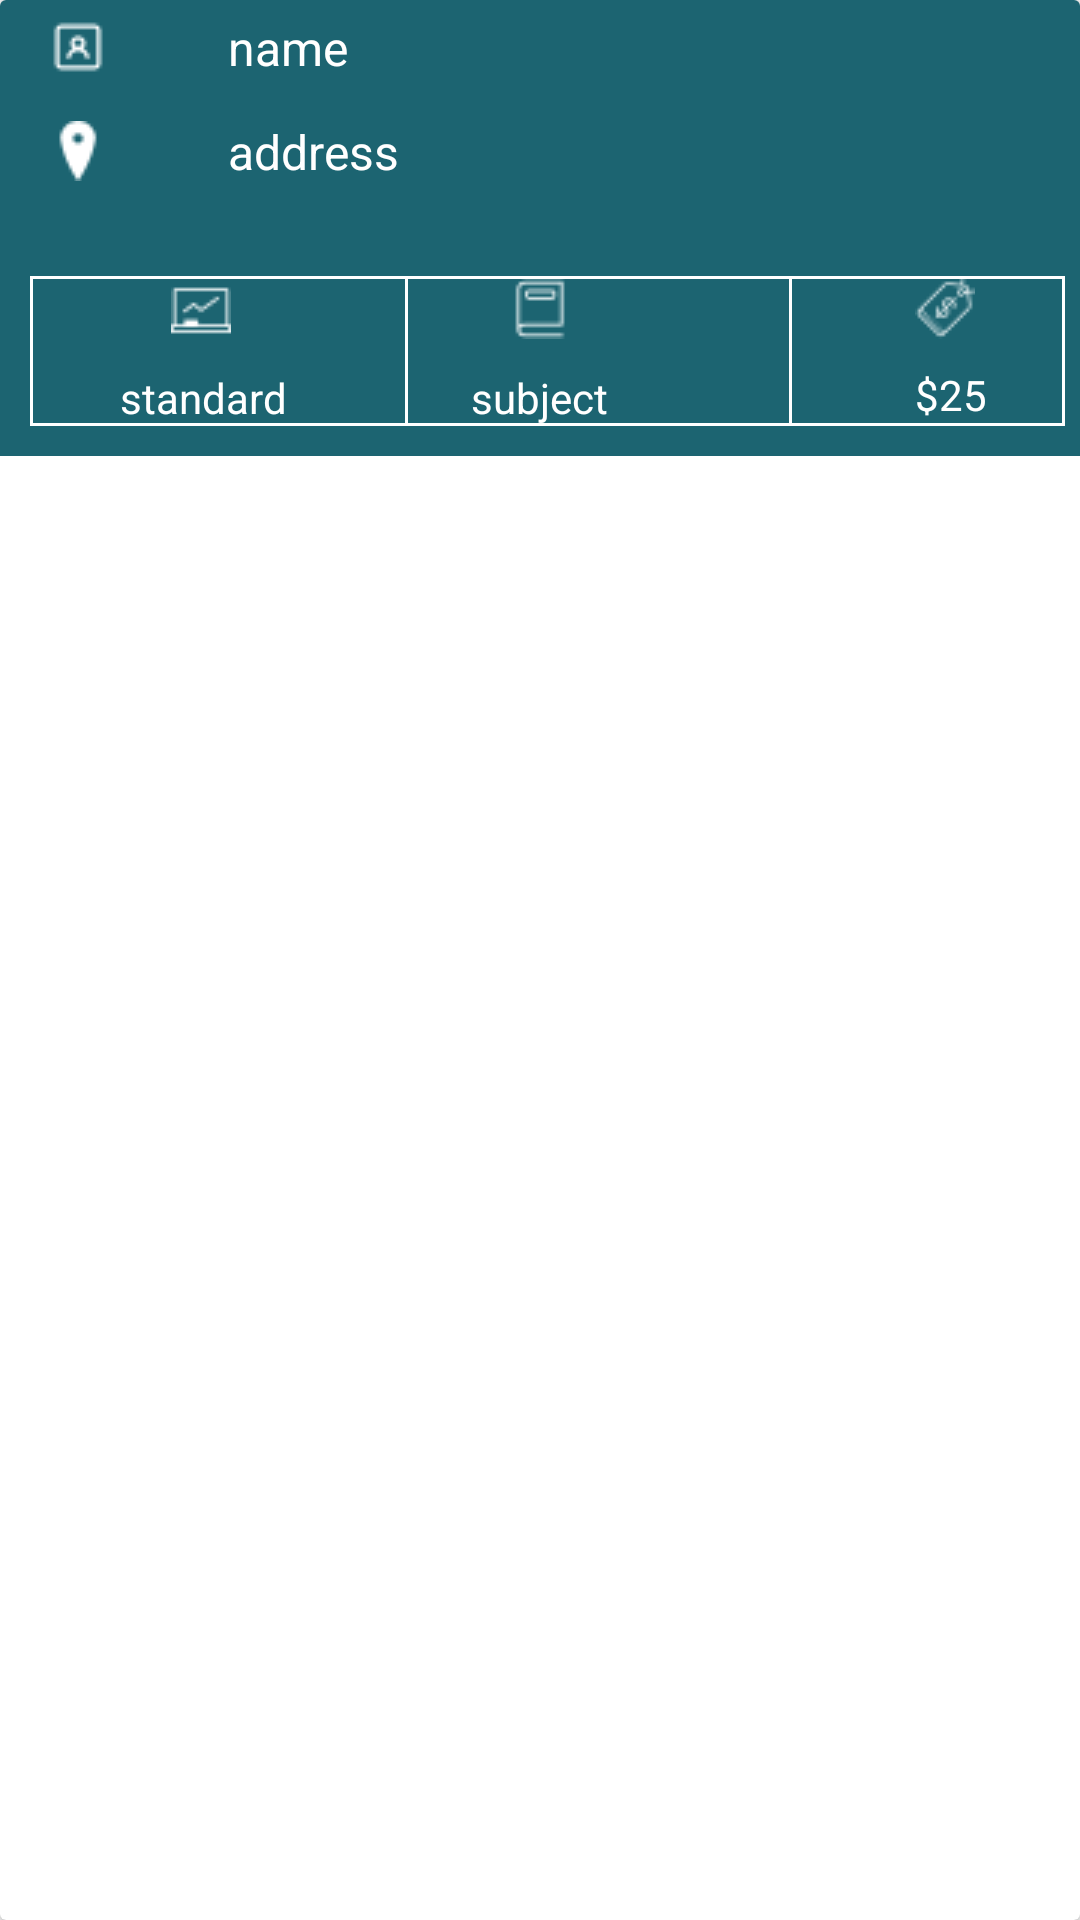

Screen size 1080×1920. Icon name, then its box in pixels as detection(x1, y1, x2, y2):
price: detection(915, 279, 975, 337)
